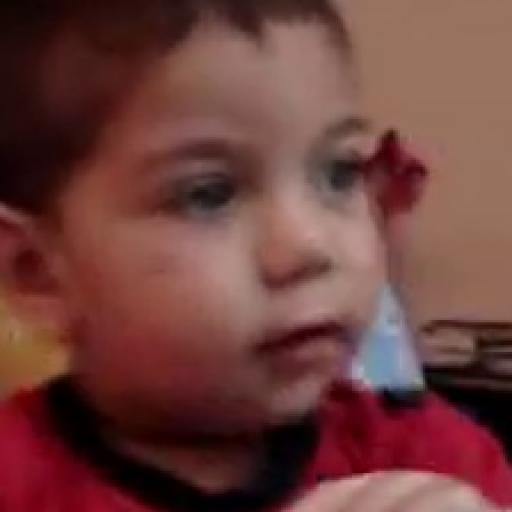Autism: (53, 0, 468, 461)
